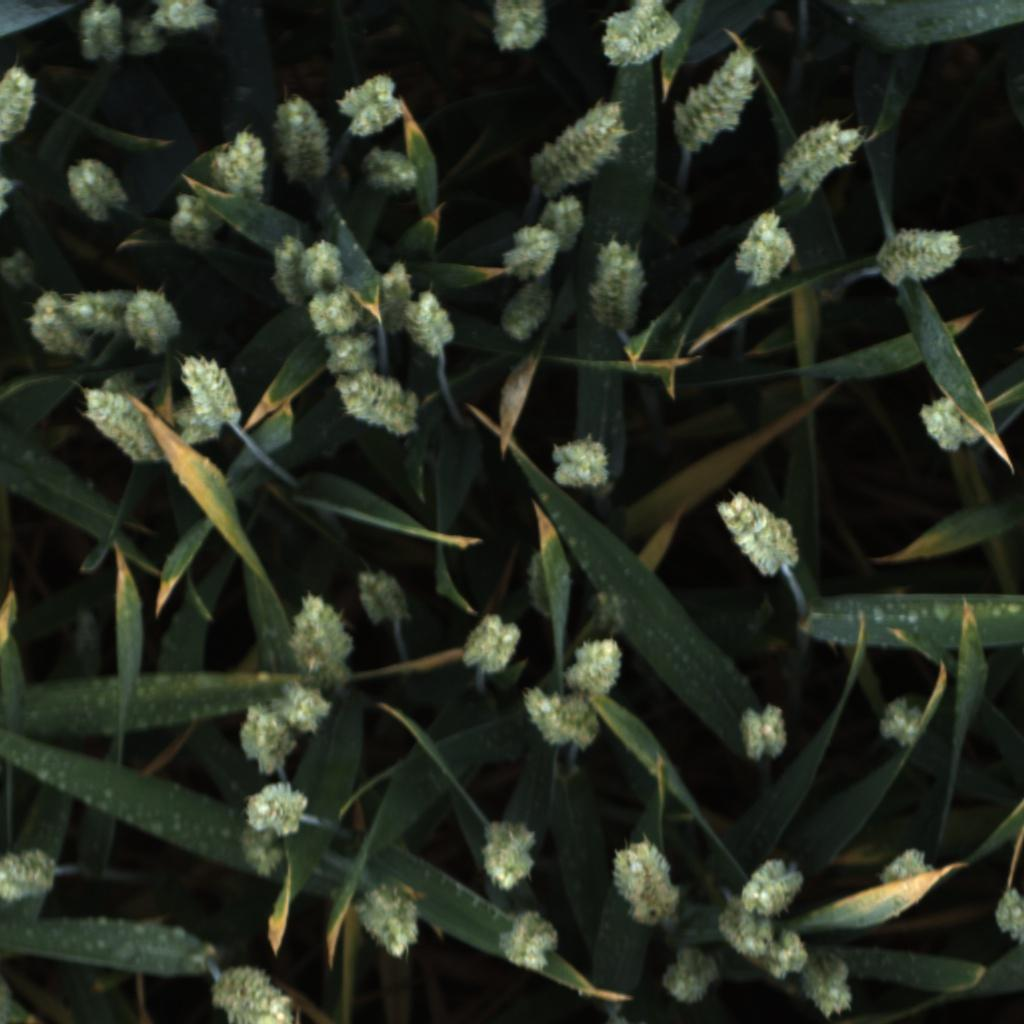0-0: (524, 97, 631, 206), (671, 45, 762, 157), (715, 485, 807, 583), (773, 114, 867, 200), (78, 386, 169, 469), (605, 834, 681, 928), (583, 235, 652, 332), (285, 589, 354, 685), (332, 371, 429, 438), (873, 221, 965, 291), (729, 206, 800, 292), (206, 961, 302, 1024), (597, 0, 683, 70), (269, 93, 331, 184), (62, 148, 133, 227), (354, 885, 425, 960), (120, 281, 185, 359), (177, 355, 246, 428), (205, 124, 273, 198), (335, 68, 404, 140), (477, 819, 542, 893), (732, 857, 812, 915), (458, 611, 524, 679), (240, 777, 313, 838), (234, 703, 296, 774), (545, 433, 616, 495), (159, 186, 221, 257), (492, 910, 559, 975), (652, 947, 722, 1009), (710, 899, 776, 964), (24, 287, 81, 361), (563, 634, 629, 697), (353, 560, 412, 630), (733, 701, 794, 768), (269, 678, 337, 737), (516, 680, 572, 751), (401, 288, 458, 355), (374, 257, 421, 337), (805, 945, 853, 1023), (0, 845, 60, 907), (500, 223, 562, 282), (71, 1, 130, 63), (63, 284, 133, 336), (497, 283, 556, 344), (489, 1, 556, 54), (357, 143, 419, 199), (0, 63, 41, 146), (873, 696, 932, 752), (304, 286, 362, 342), (875, 840, 933, 896), (916, 393, 968, 455), (762, 918, 813, 981), (549, 694, 602, 753), (542, 188, 592, 249), (319, 326, 377, 378), (269, 230, 307, 307), (302, 232, 349, 292), (153, 0, 222, 39), (237, 829, 288, 881), (169, 398, 224, 446), (119, 11, 171, 58), (587, 588, 635, 635), (526, 550, 557, 621), (990, 885, 1024, 946), (0, 248, 39, 295), (101, 368, 147, 404), (0, 170, 22, 218), (959, 415, 986, 447)
